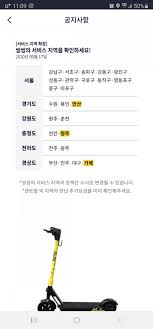kick_handler: (43, 225, 62, 241)
kick_neck: (47, 243, 59, 294)
